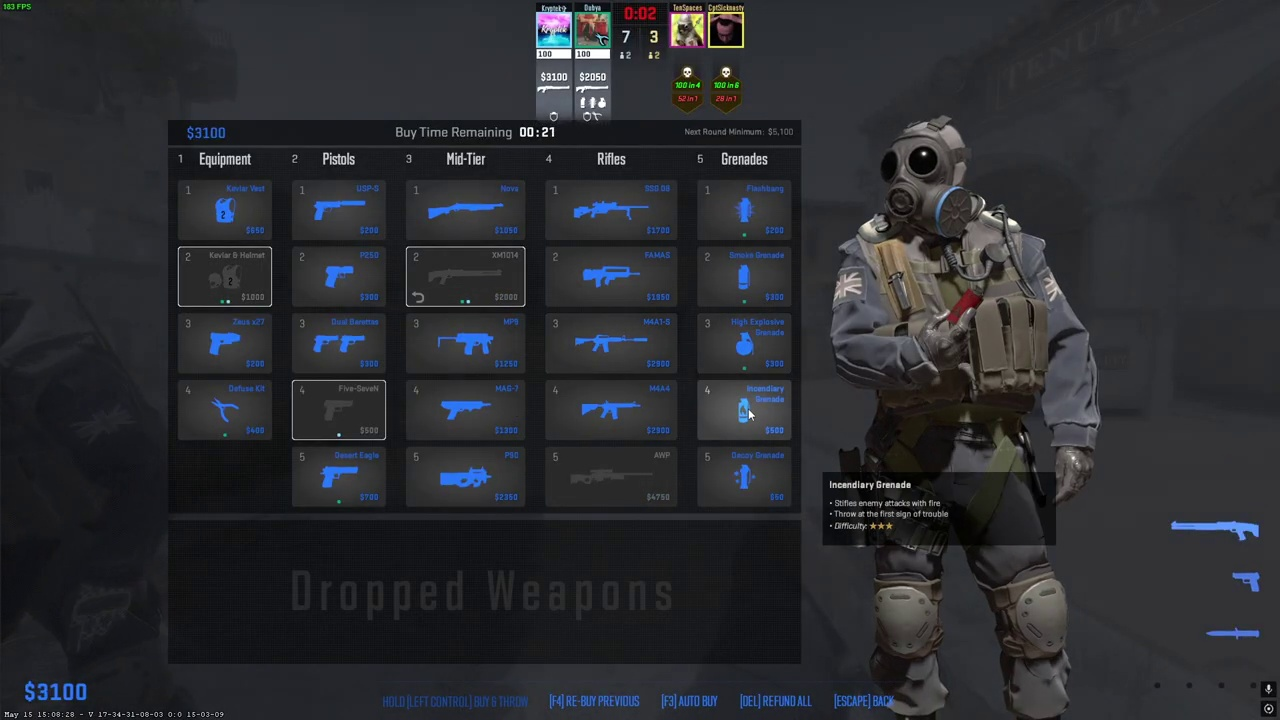CT: (857, 123, 1076, 720)
